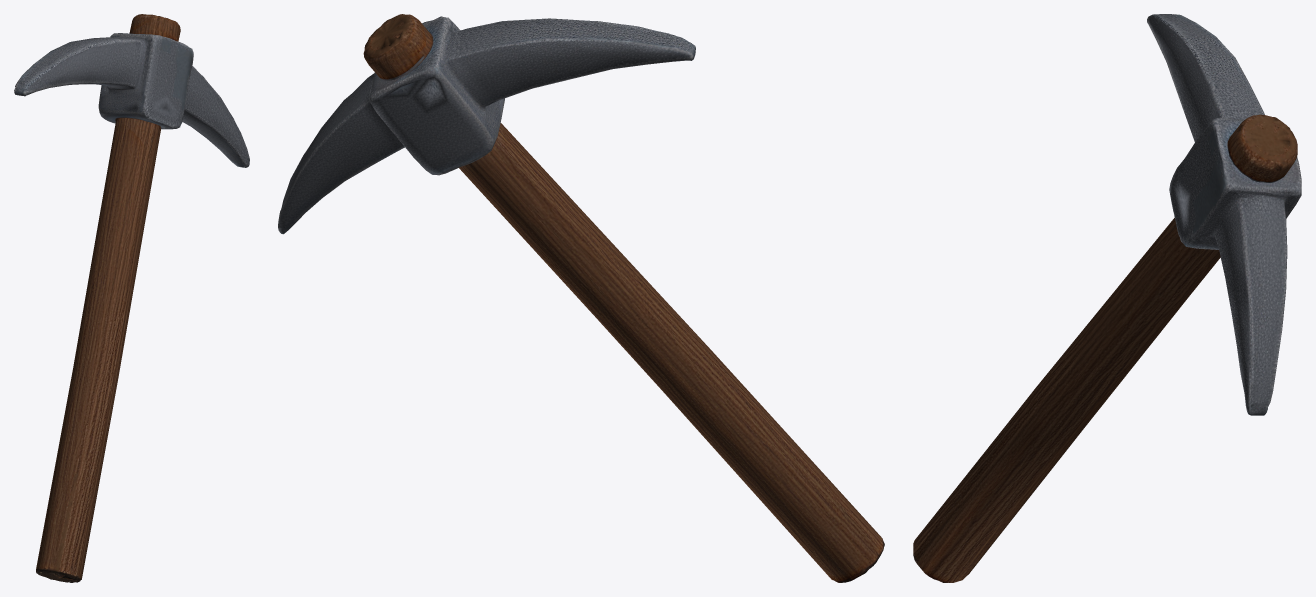
Rendered from pickaxe.glb.
The picture shows the model from 3 angles, left to right: view 1: azimuth 30°, elevation 25°; view 2: azimuth 150°, elevation 25°; view 3: azimuth 270°, elevation 25°; orthographic projection. The views are drawn at different scales.
Parts seen in each view (by area): view 1: tripo_node_8157dbd7-6313-419b-b0ce-9e7a5f3c553f; view 2: tripo_node_8157dbd7-6313-419b-b0ce-9e7a5f3c553f; view 3: tripo_node_8157dbd7-6313-419b-b0ce-9e7a5f3c553f.
Boxes of the visible parts, box(x1,y1,x2,y2) form: tripo_node_8157dbd7-6313-419b-b0ce-9e7a5f3c553f: box(14, 14, 249, 582); tripo_node_8157dbd7-6313-419b-b0ce-9e7a5f3c553f: box(278, 14, 884, 582); tripo_node_8157dbd7-6313-419b-b0ce-9e7a5f3c553f: box(913, 14, 1301, 582).
Bounding box in the file's own units: 0.7598 × 0.998 × 0.584.
1 material, 1 textured.
